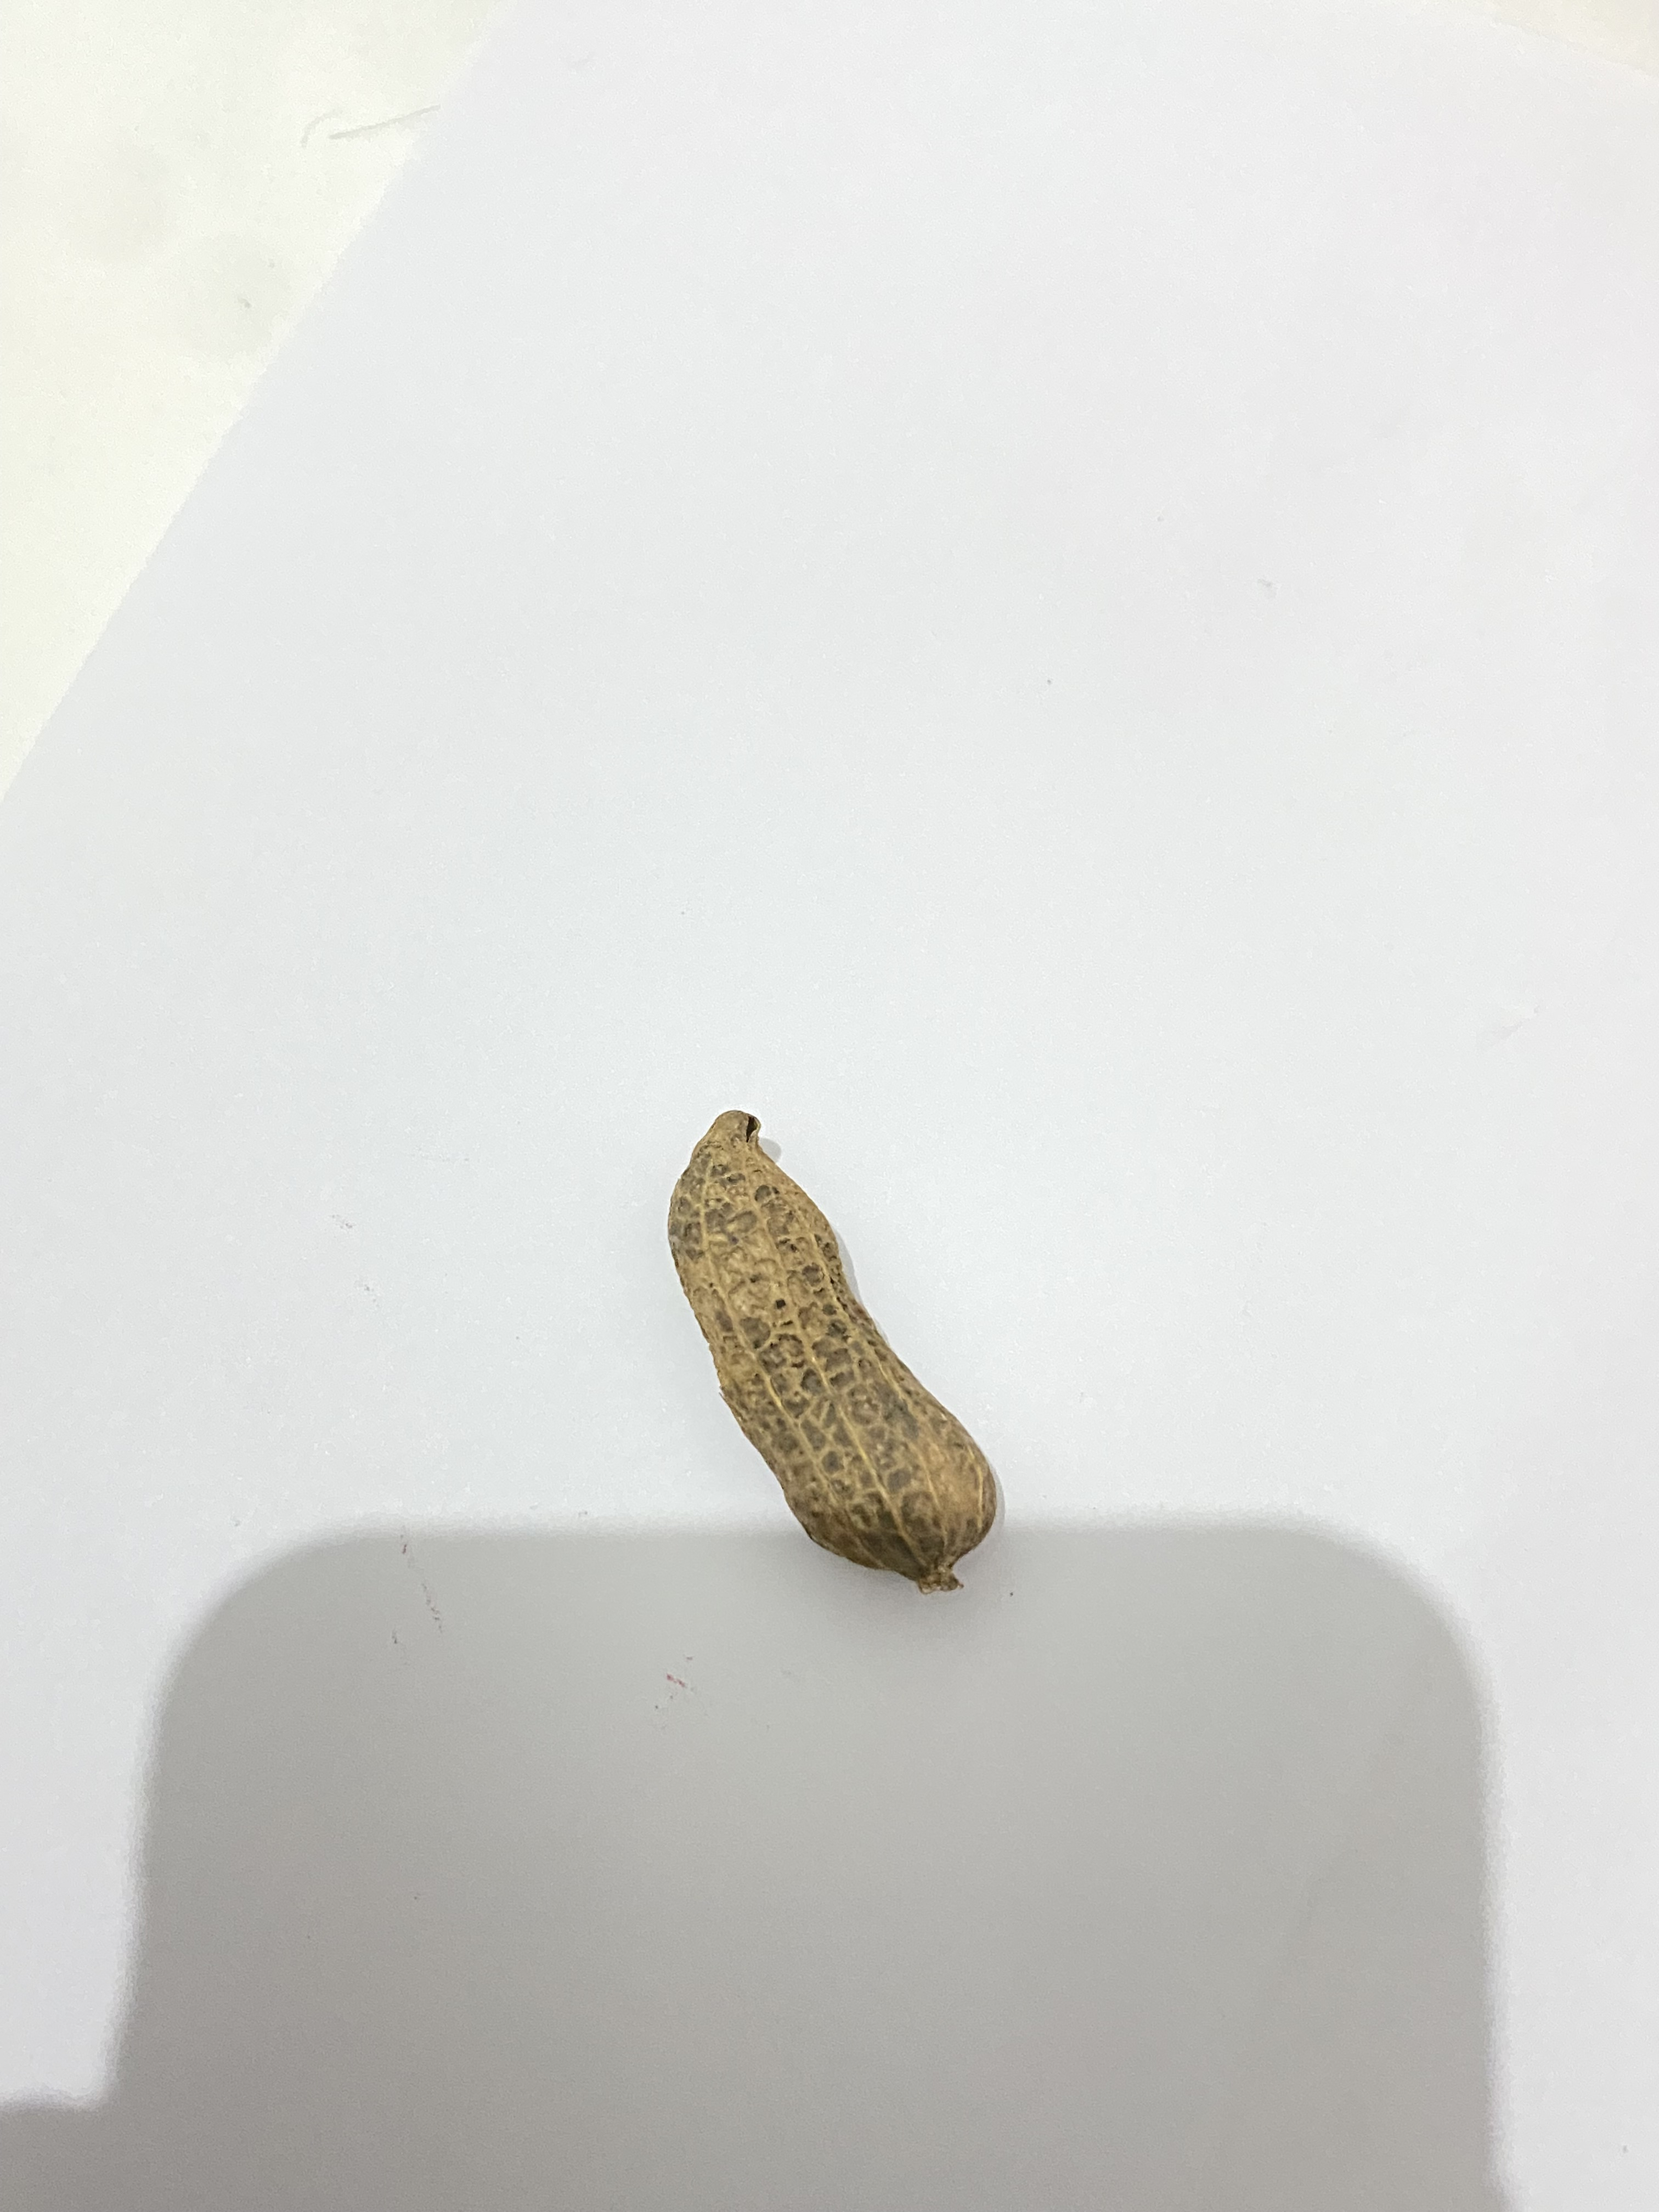kacang3: (648, 1035, 1009, 1602)
